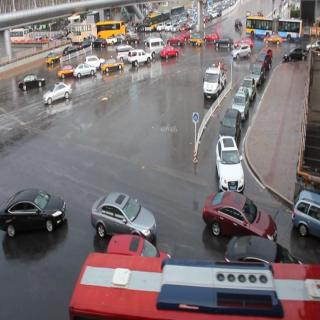BigCar: (240, 9, 300, 42)
Car: (202, 186, 282, 250), (90, 186, 161, 248), (0, 187, 68, 238), (209, 134, 249, 190), (199, 60, 229, 102), (39, 78, 73, 106), (218, 104, 242, 142), (16, 68, 45, 91), (231, 84, 250, 119), (280, 46, 307, 70), (126, 49, 153, 68), (157, 41, 179, 63), (231, 41, 252, 64), (99, 56, 123, 76), (72, 60, 95, 80), (55, 60, 75, 79), (214, 32, 233, 52), (186, 32, 204, 52), (203, 26, 220, 47), (167, 32, 184, 50), (85, 55, 104, 71)
